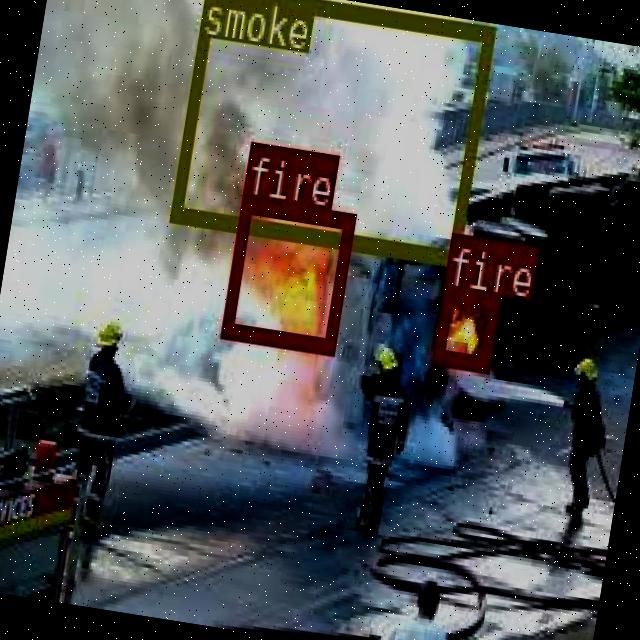fire: (220, 194, 354, 352), (430, 286, 500, 368)
smoke: (167, 0, 493, 263)
